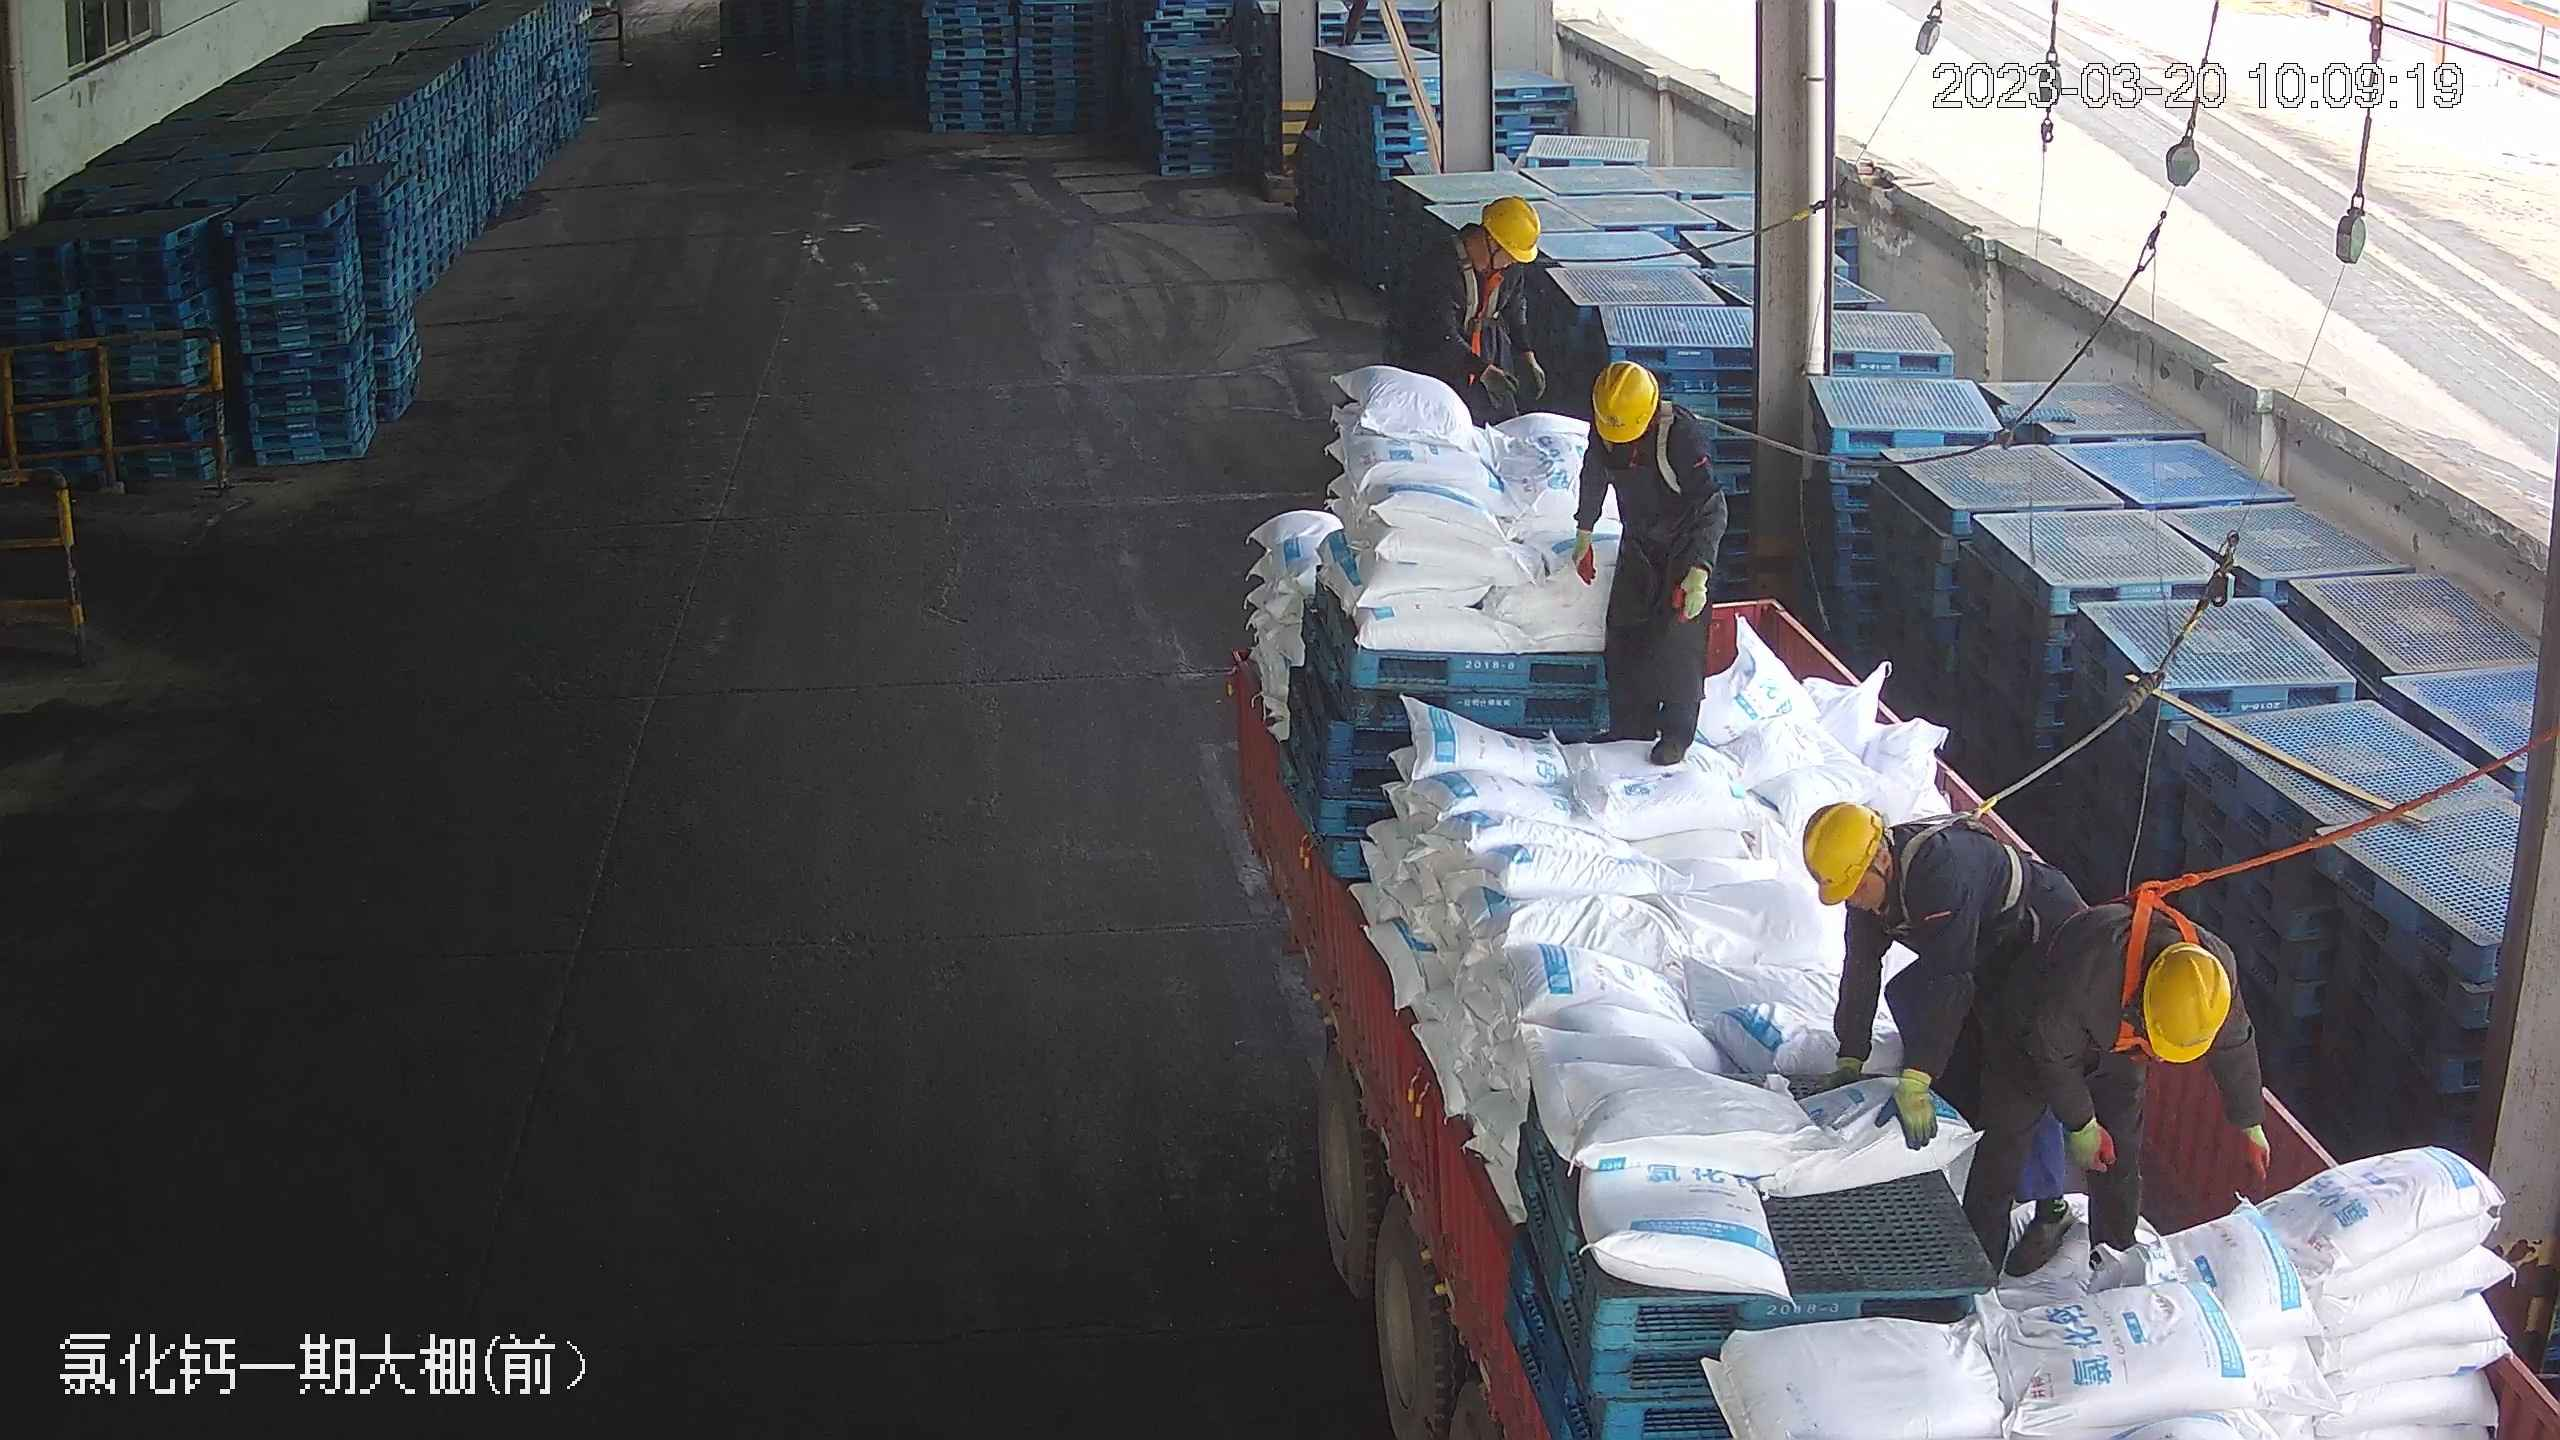belt: (1887, 792, 2024, 931), (2109, 863, 2225, 1013), (1436, 235, 1530, 341), (1610, 401, 1702, 490)
head: (2072, 895, 2246, 1083), (1804, 798, 1992, 951), (1575, 354, 1714, 486), (1411, 191, 1543, 309)
helmet: (2136, 938, 2231, 1058), (1801, 799, 1885, 907), (1589, 356, 1659, 442), (1477, 192, 1540, 264)
people: (1801, 798, 2113, 1264), (1997, 903, 2284, 1273), (1566, 365, 1729, 765), (1390, 193, 1546, 431)
truck: (1232, 175, 2391, 1440)
